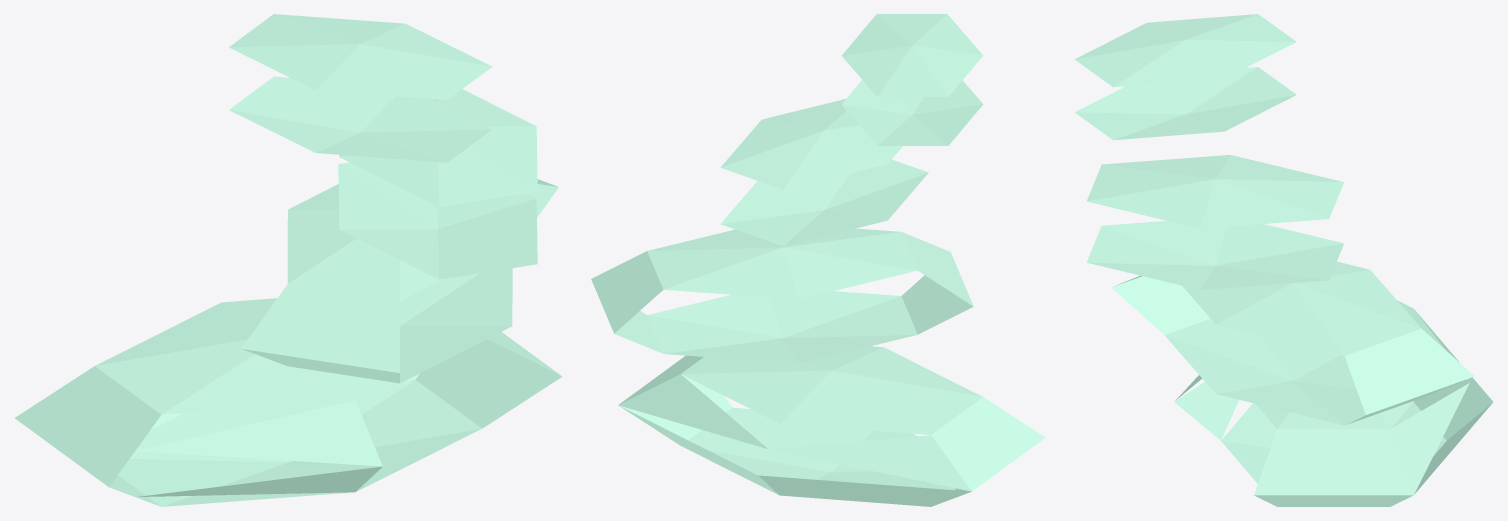
The model's file is prop_mist_pillar_lod1.glb.
3 views of the same model, side by side, from view 1: azimuth 30°, elevation 25°; view 2: azimuth 150°, elevation 25°; view 3: azimuth 270°, elevation 25° (orthographic). The views are drawn at different scales.
Parts seen in each view (by area): view 1: prop_mist_pillar_lod1; view 2: prop_mist_pillar_lod1; view 3: prop_mist_pillar_lod1.
Boxes of the visible parts, <box> form: prop_mist_pillar_lod1: <box>14,14,562,506</box>; prop_mist_pillar_lod1: <box>591,14,1045,506</box>; prop_mist_pillar_lod1: <box>1074,14,1492,506</box>.
Bounding box in the file's own units: 2.37 × 2.13 × 1.97.
